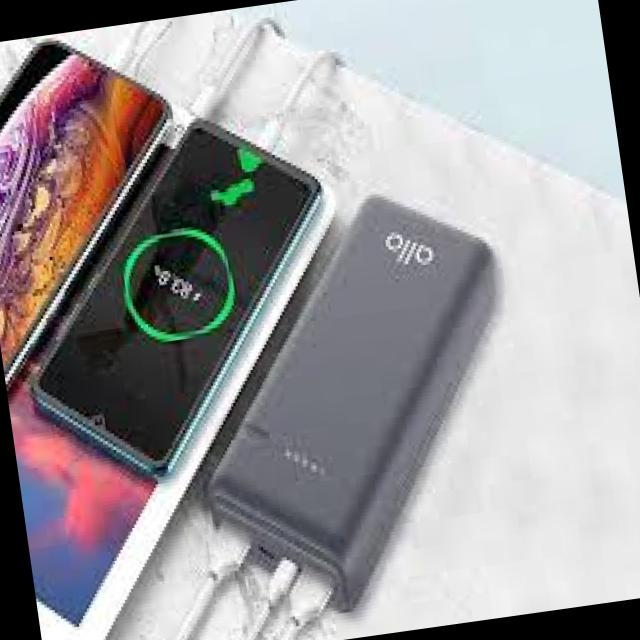power_bank: (173, 179, 548, 632)
